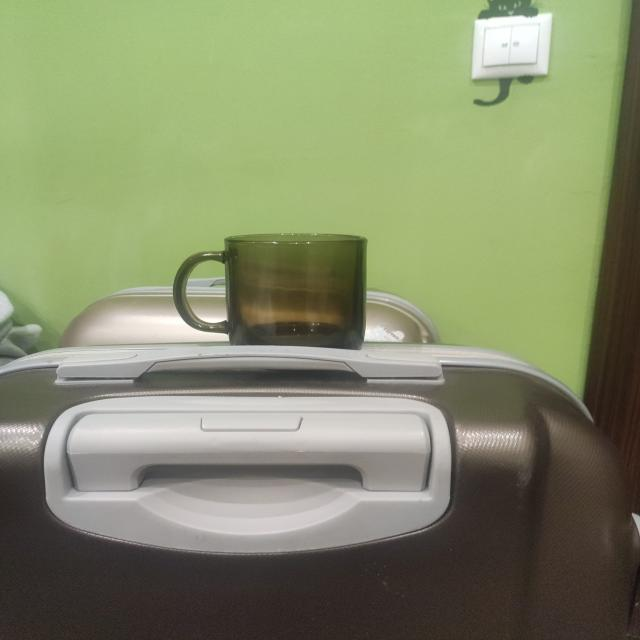cups: (172, 233, 367, 350)
